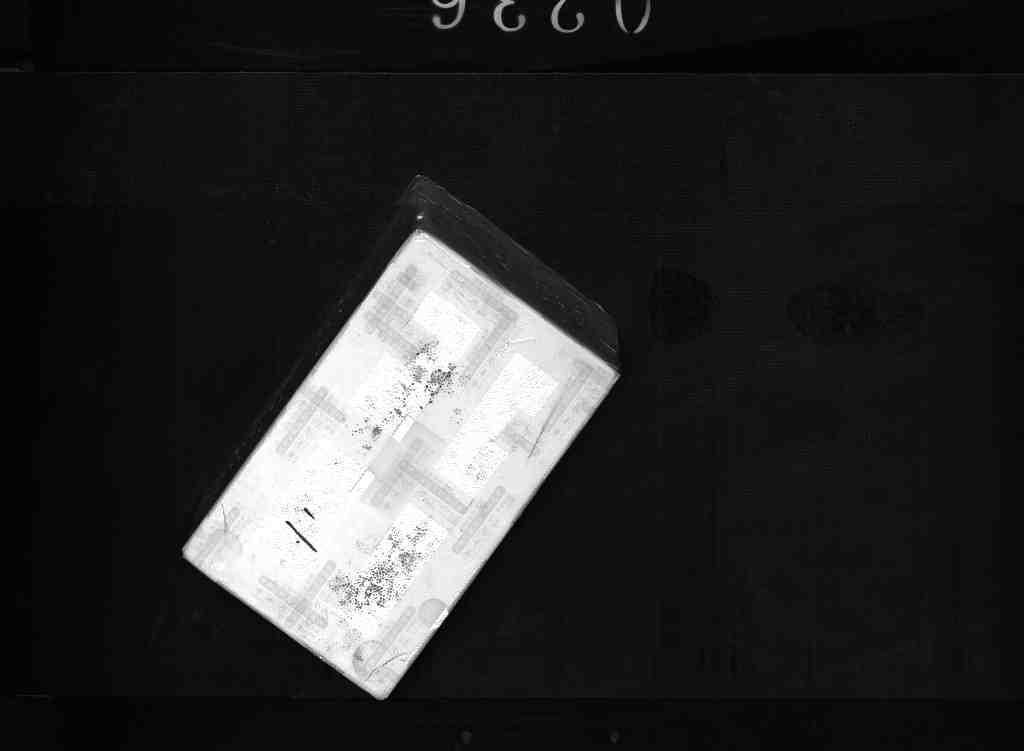box: (176, 188, 628, 697)
